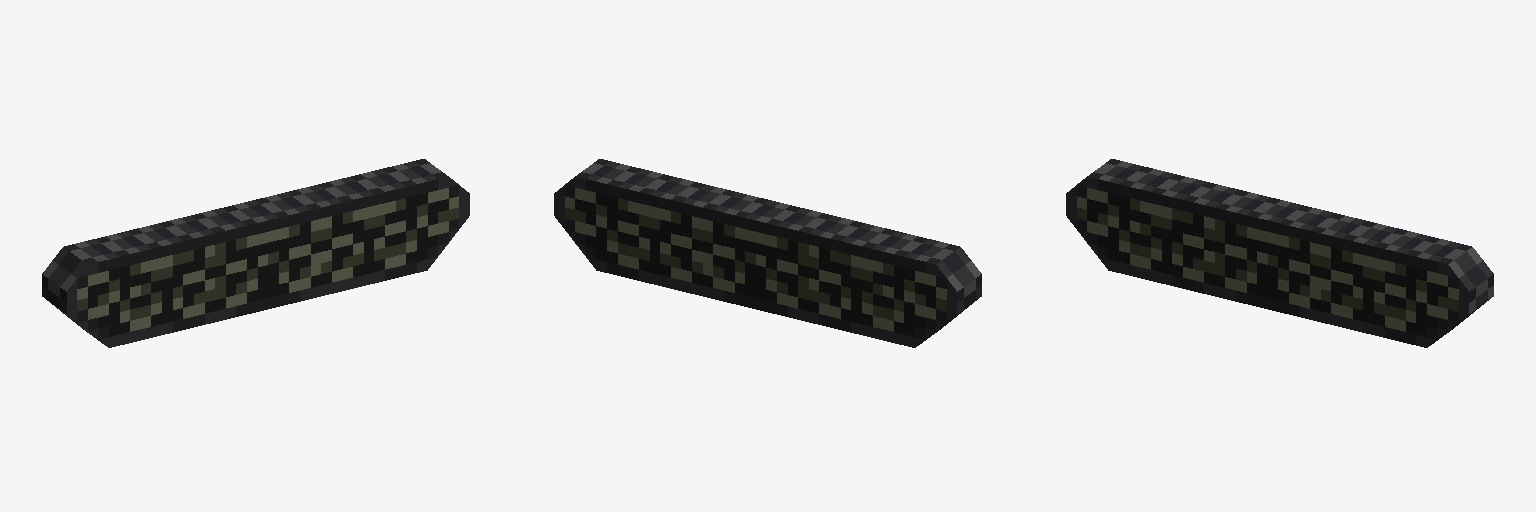
3 views of the same model, side by side, from view 1: azimuth 30°, elevation 25°; view 2: azimuth 150°, elevation 25°; view 3: azimuth 330°, elevation 25° (orthographic).
Visible parts, largest first — view 1: cuboid; view 2: cuboid; view 3: cuboid.
Part boxes in pixels (bbox=[...]): cuboid: bbox=[42, 159, 469, 347]; cuboid: bbox=[554, 159, 981, 347]; cuboid: bbox=[1066, 159, 1493, 347].
Bounding box in the file's own units: 1.19 × 0.25 × 0.125.
Materials: 1 (1 with a texture image).